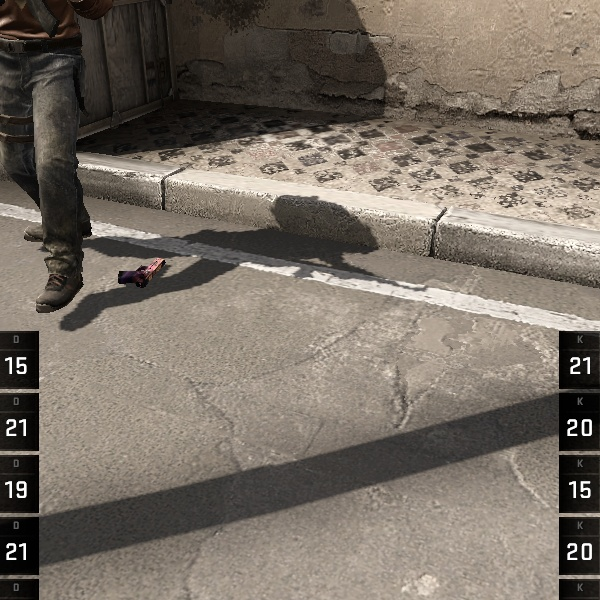t_body: (3, 0, 133, 304)
